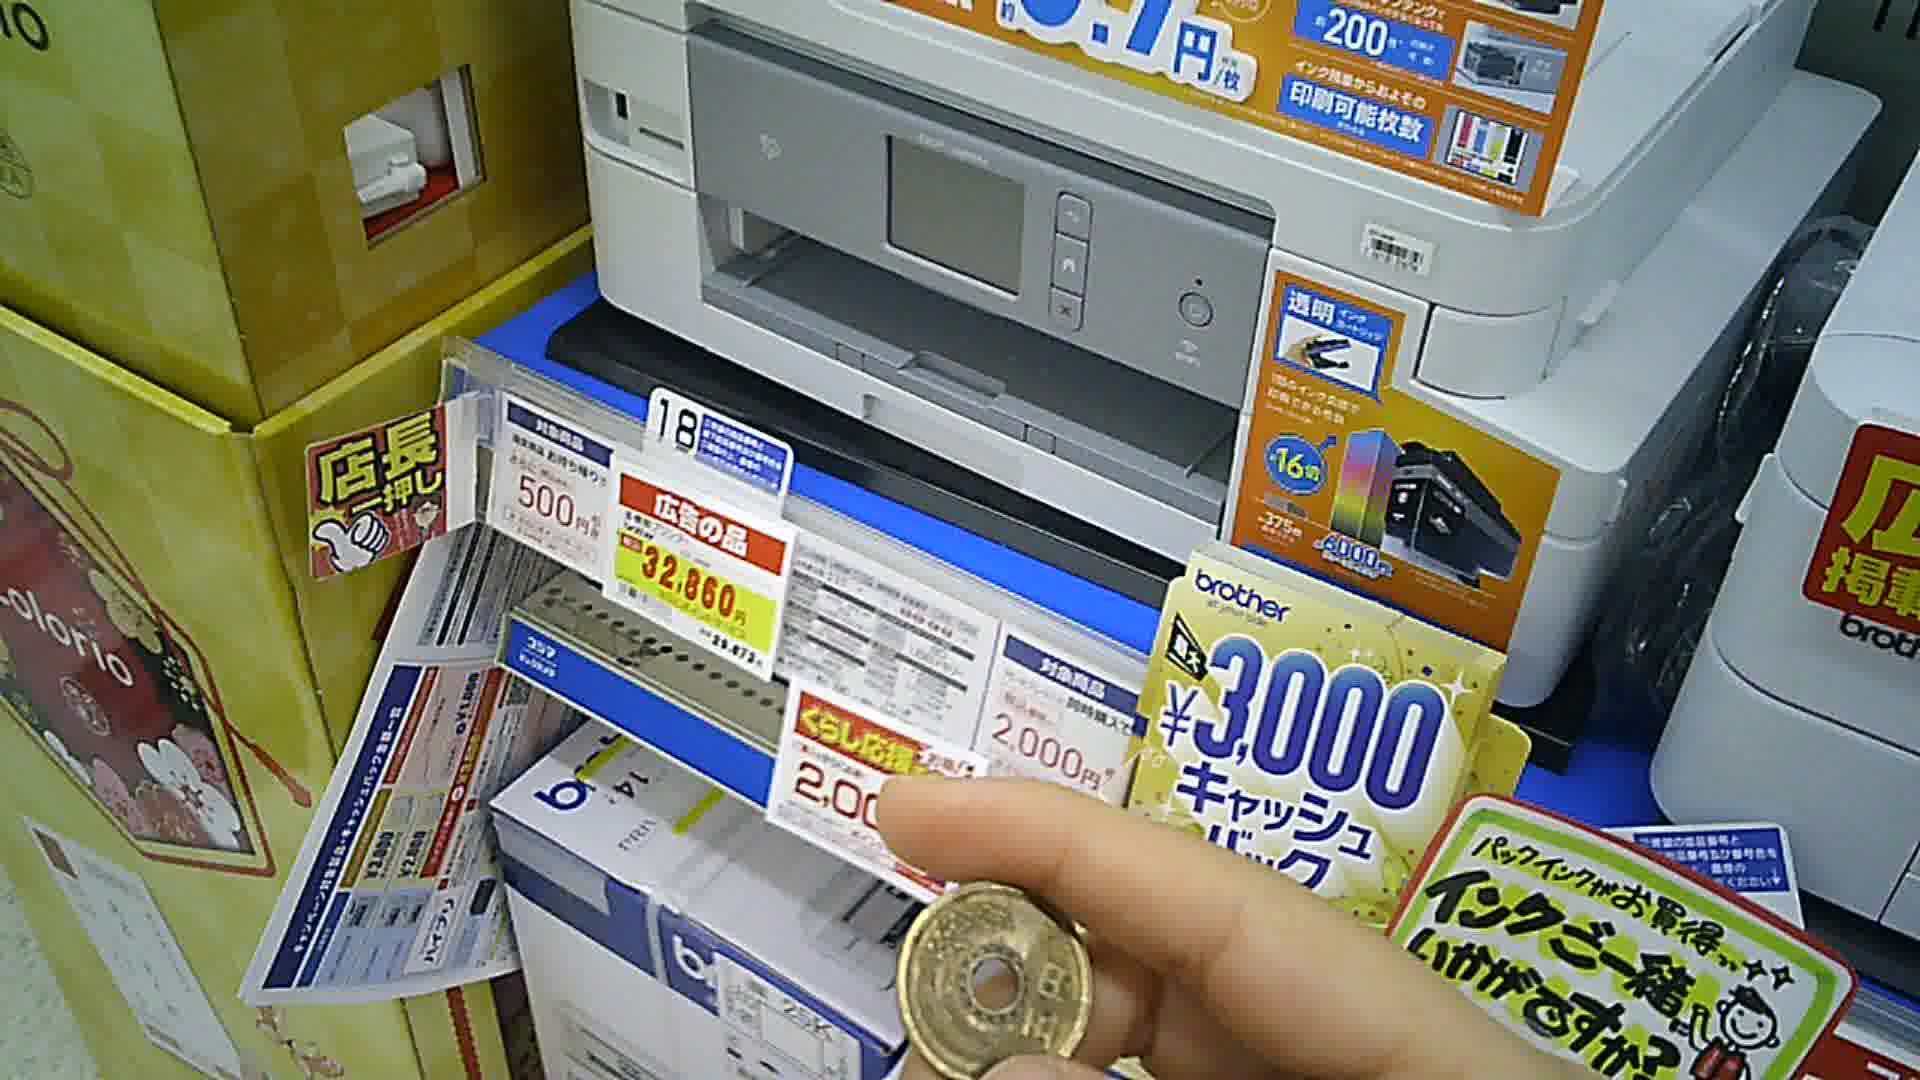5 Yen: (884, 866, 1101, 1076)
